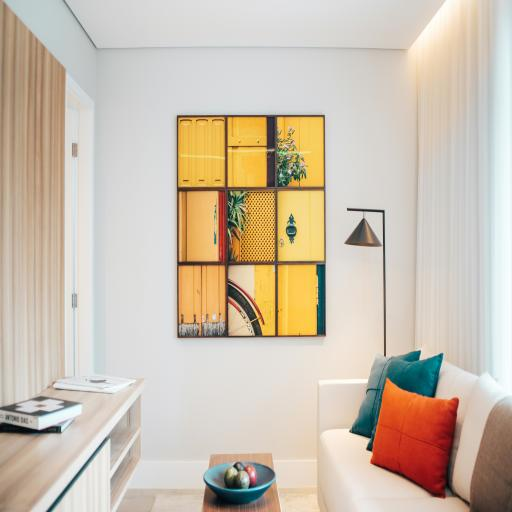Door: (66, 72, 94, 378)
desk: (0, 376, 146, 512)
sofa: (317, 351, 511, 512)
wall: (94, 47, 418, 489)
